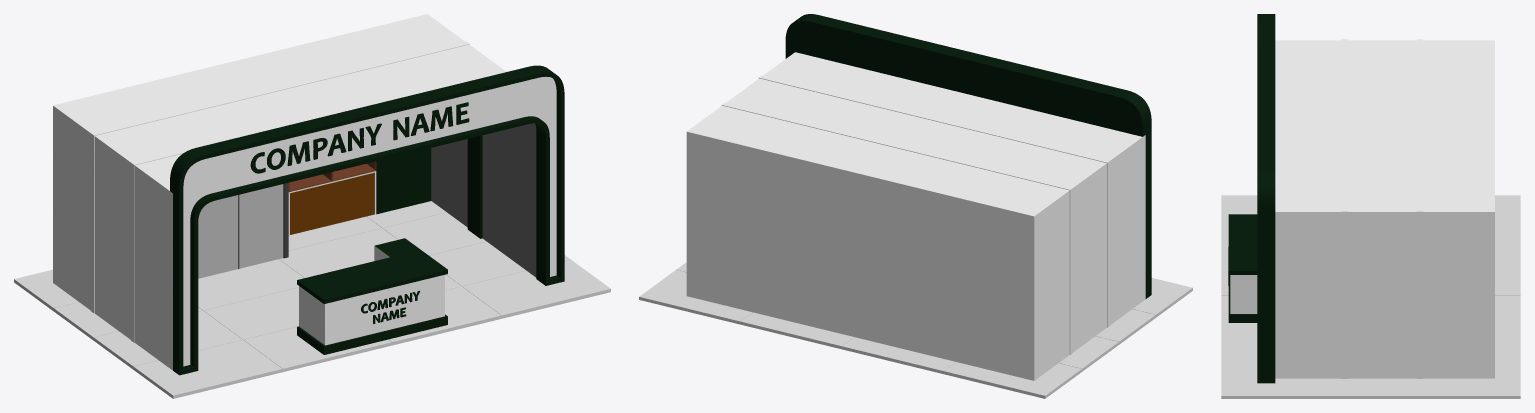
File: 2nd STAL.fbx
The picture shows the model from 3 angles, left to right: view 1: azimuth 30°, elevation 25°; view 2: azimuth 150°, elevation 25°; view 3: azimuth 270°, elevation 25°; orthographic projection. The views are drawn at different scales.
Visible parts, largest first — view 1: Int, Ground, Feont, Desk, Text006, Text005, cab2; view 2: Int, Feont, Ground; view 3: Int, Ground, Feont, Desk.
Boxes of the visible parts, left/top/right/bottom form: Int: left=53, top=14, right=536, bottom=370; Ground: left=14, top=201, right=610, bottom=398; Feont: left=170, top=65, right=564, bottom=375; Desk: left=297, top=238, right=447, bottom=354; Text006: left=250, top=123, right=381, bottom=173; Text005: left=393, top=102, right=469, bottom=140; cab2: left=288, top=161, right=376, bottom=191; Int: left=686, top=52, right=1145, bottom=380; Feont: left=785, top=14, right=1151, bottom=298; Ground: left=639, top=262, right=1192, bottom=398; Int: left=1275, top=39, right=1494, bottom=378; Ground: left=1221, top=195, right=1520, bottom=398; Feont: left=1257, top=14, right=1275, bottom=383; Desk: left=1228, top=214, right=1257, bottom=322.
Size of the model in its own units: 737 by 350 by 464.
